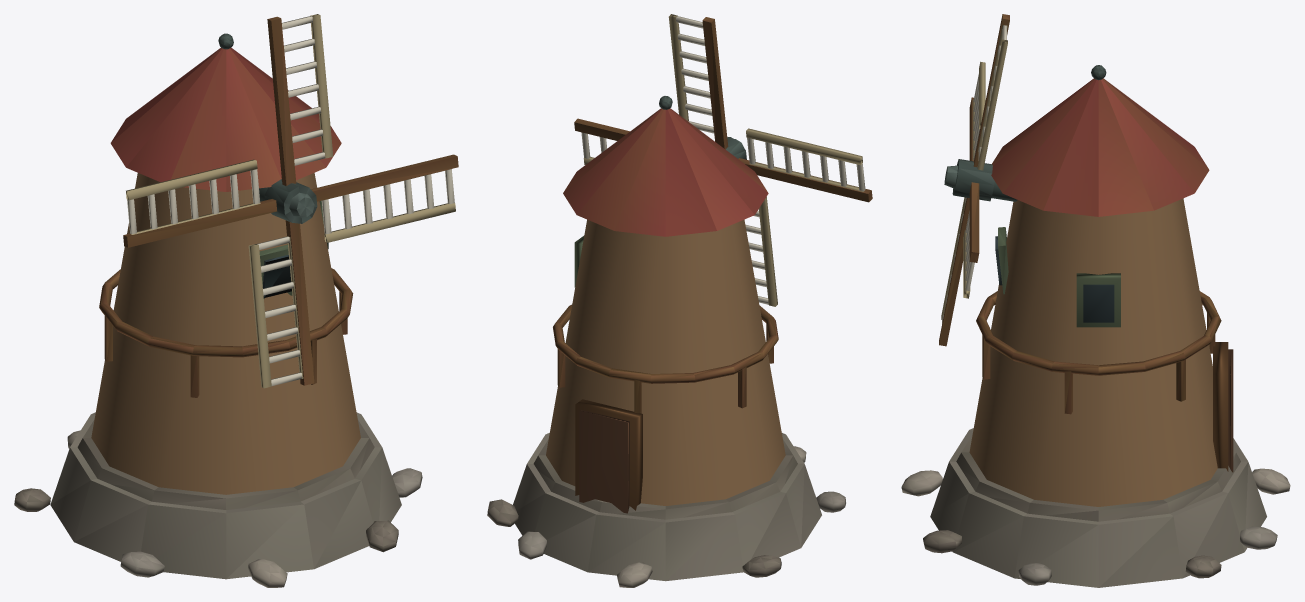
The model's file is farm-windmill.m1.glb.
3 views of the same model, side by side, from view 1: azimuth 30°, elevation 25°; view 2: azimuth 150°, elevation 25°; view 3: azimuth 270°, elevation 25° (orthographic). The views are drawn at different scales.
Visible parts, largest first — view 1: windmillHardware, windmillTower, windmillSailLattice, windmillBlades; view 2: windmillHardware, windmillTower, windmillSailLattice, windmillDoorLeaf, windmillBlades, windmillDoorFrame; view 3: windmillTower, windmillHardware, windmillBlades, windmillSailLattice, windmillDoorFrame, windmillWindowFrameX, windmillWindowGlassX, windmillDoorLeaf.
Part boxes in pixels (<box>): windmillHardware: <box>14,33,422,587</box>; windmillTower: <box>91,173,360,494</box>; windmillSailLattice: <box>126,14,455,388</box>; windmillBlades: <box>123,16,458,385</box>; windmillHardware: <box>487,96,845,587</box>; windmillTower: <box>546,219,785,505</box>; windmillSailLattice: <box>581,14,865,306</box>; windmillDoorLeaf: <box>579,409,629,513</box>; windmillBlades: <box>574,17,872,202</box>; windmillDoorFrame: <box>575,399,642,510</box>; windmillTower: <box>969,198,1217,506</box>; windmillHardware: <box>901,65,1290,587</box>; windmillBlades: <box>939,14,1009,346</box>; windmillSailLattice: <box>941,25,1007,323</box>; windmillDoorFrame: <box>1213,342,1228,471</box>; windmillWindowFrameX: <box>1076,273,1120,327</box>; windmillWindowGlassX: <box>1083,284,1114,322</box>; windmillDoorLeaf: <box>1228,349,1233,472</box>.
Size of the model in its own units: 3.35 by 4.98 by 3.51.
